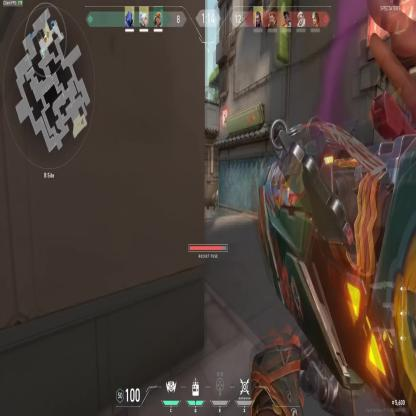enemy: (214, 187, 222, 211)
